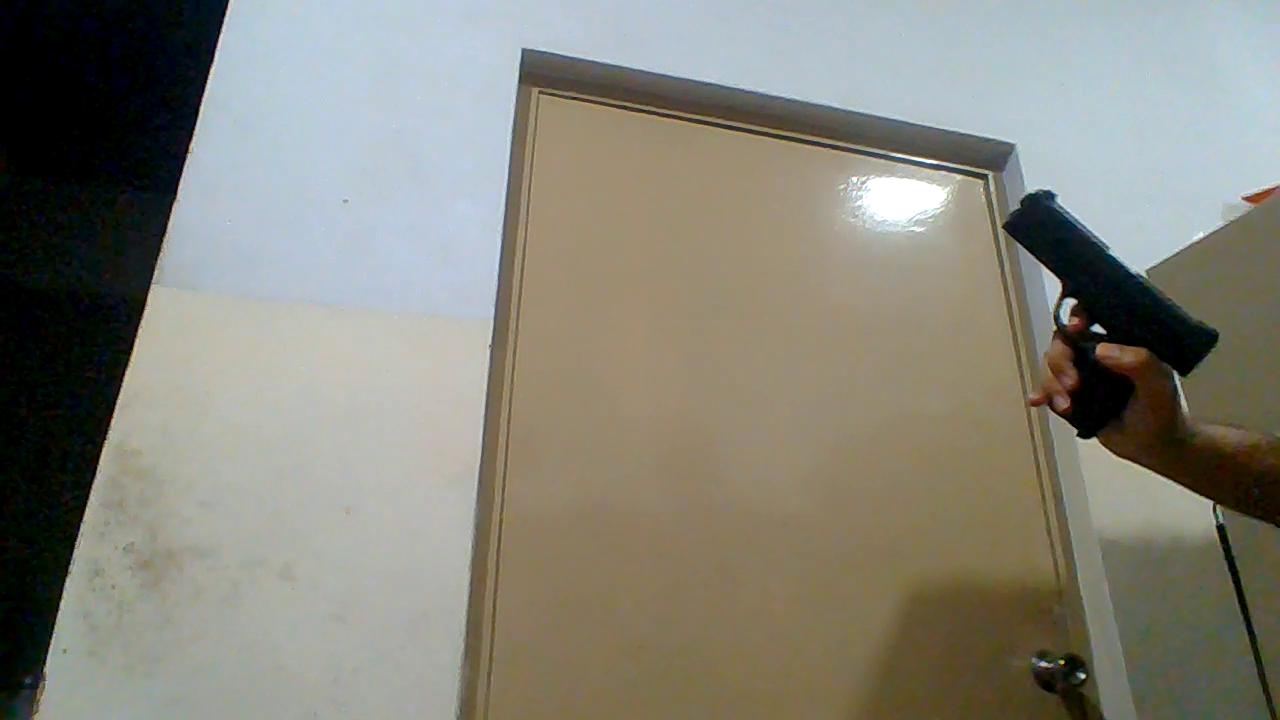weapon: (1002, 184, 1224, 441)
